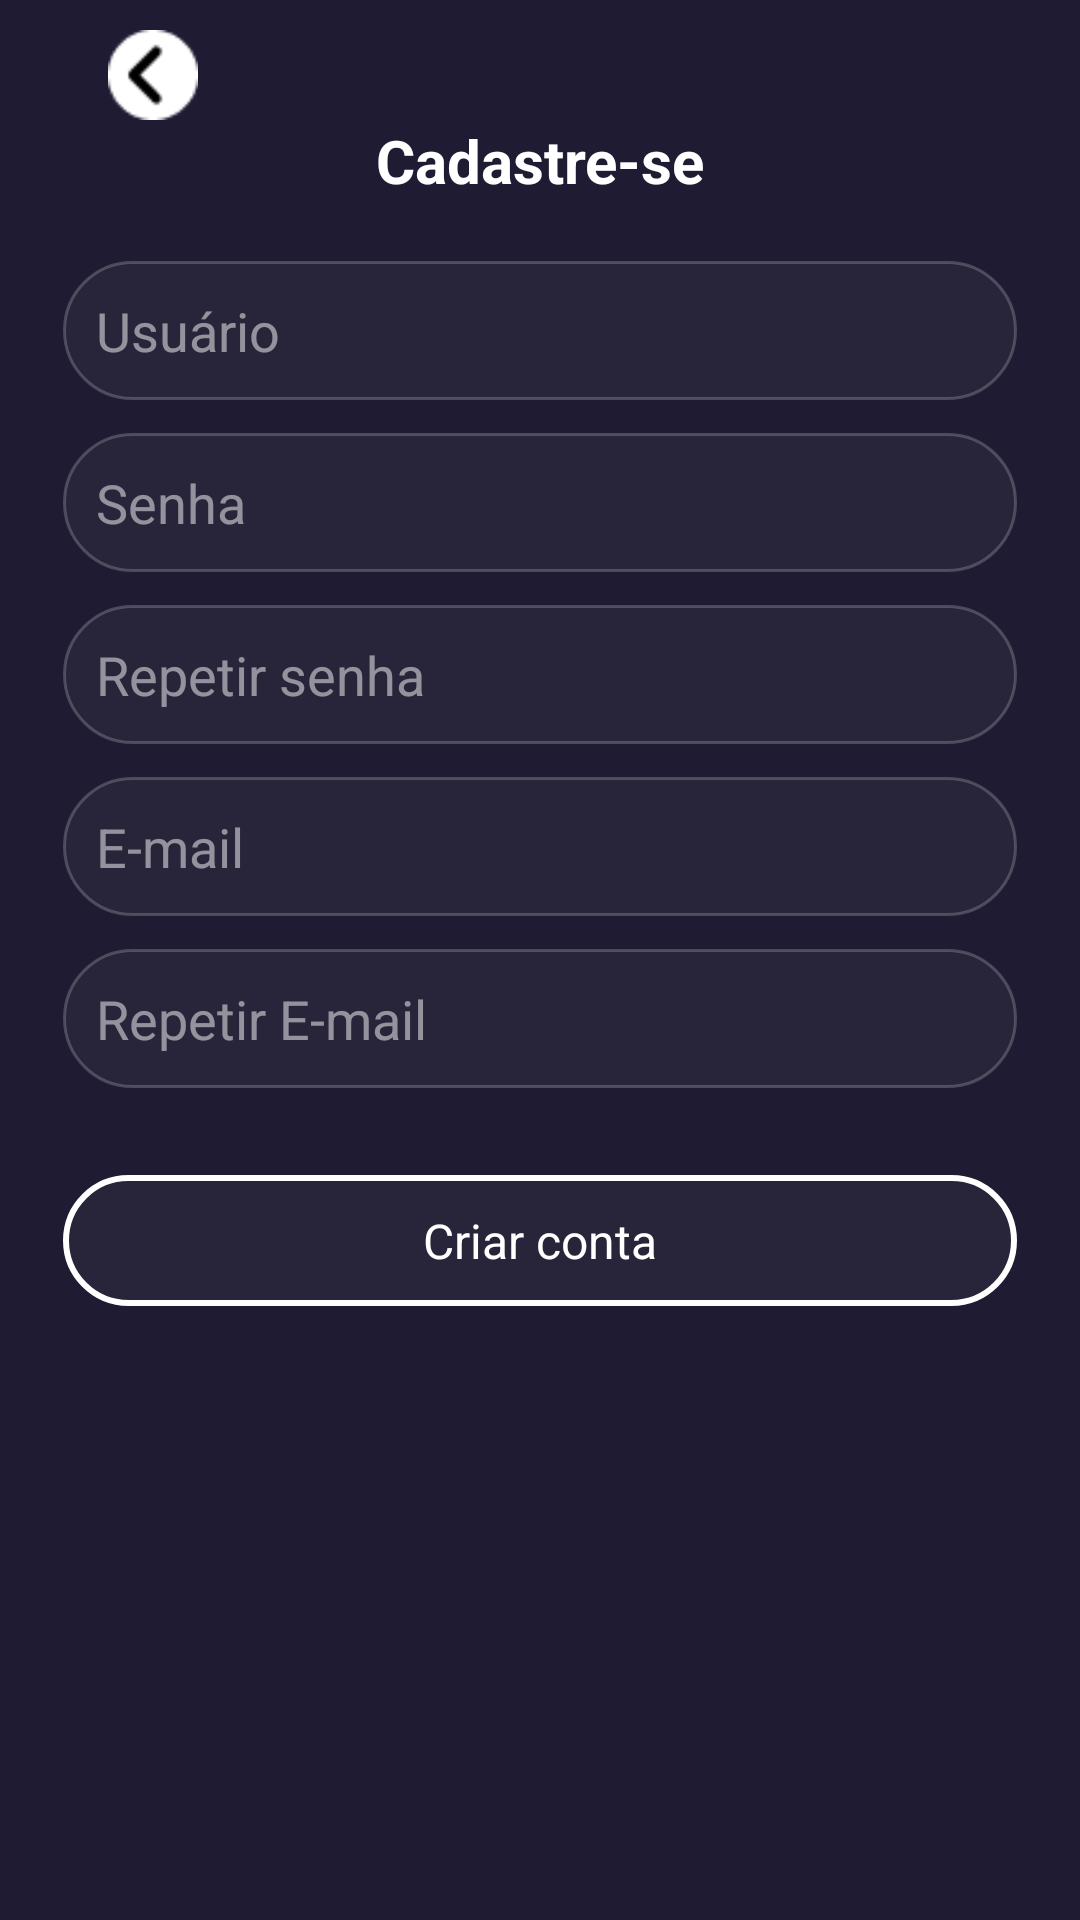

Icon bounding boxes for this 1080x1920 phone screenshot, format {"left": x1, "top": y1, "right": x2, "bottom": y2}:
back: {"left": 108, "top": 30, "right": 198, "bottom": 120}
